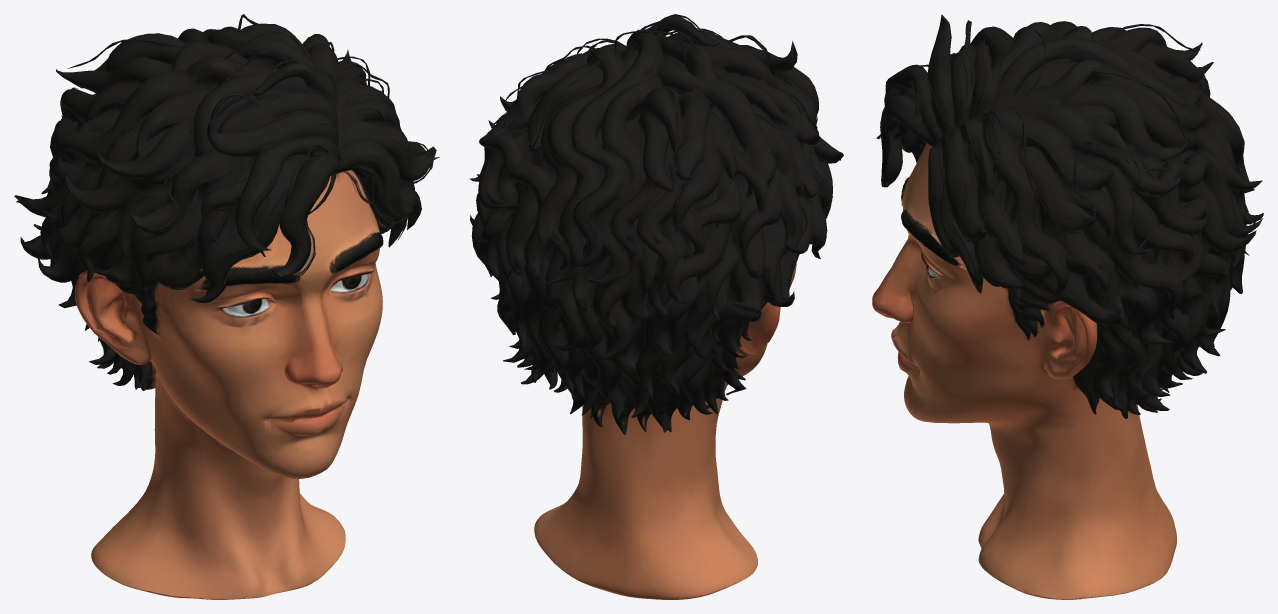
3 renders of one model, left to right at view 1: azimuth 30°, elevation 25°; view 2: azimuth 150°, elevation 25°; view 3: azimuth 270°, elevation 25°, orthographic. The views are drawn at different scales.
Parts seen in each view (by area): view 1: tripo_node_f6e206f1-5e4c-46ff-9de8-4f92e5de78b5; view 2: tripo_node_f6e206f1-5e4c-46ff-9de8-4f92e5de78b5; view 3: tripo_node_f6e206f1-5e4c-46ff-9de8-4f92e5de78b5.
Part boxes in pixels (x1,y1,x2,y2): tripo_node_f6e206f1-5e4c-46ff-9de8-4f92e5de78b5: (14,14,439,599); tripo_node_f6e206f1-5e4c-46ff-9de8-4f92e5de78b5: (469,14,843,599); tripo_node_f6e206f1-5e4c-46ff-9de8-4f92e5de78b5: (872,14,1263,599).
Size of the model in its own units: 0.6448 by 0.9803 by 0.6538.
1 material, 1 textured.
